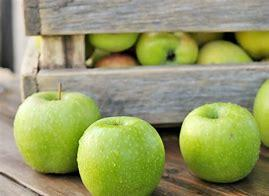apple: (76, 113, 173, 196), (178, 95, 264, 184), (15, 88, 100, 175)
